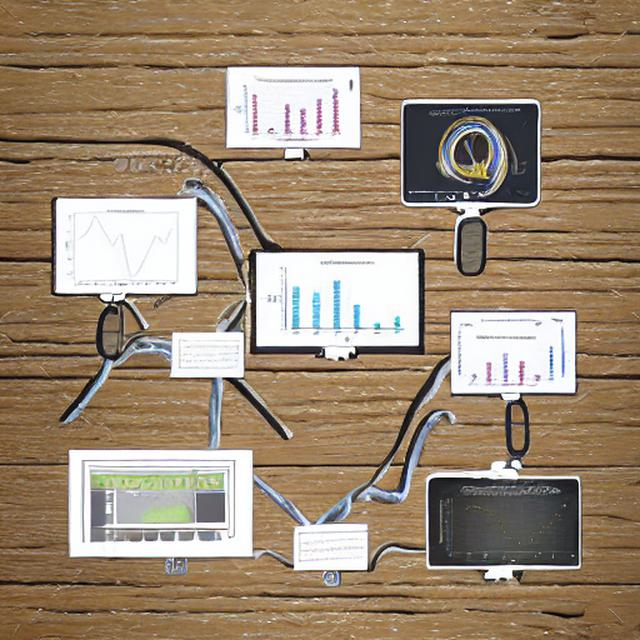Graph: (261, 256, 411, 344), (57, 200, 191, 292), (437, 482, 579, 566), (231, 78, 346, 143)
